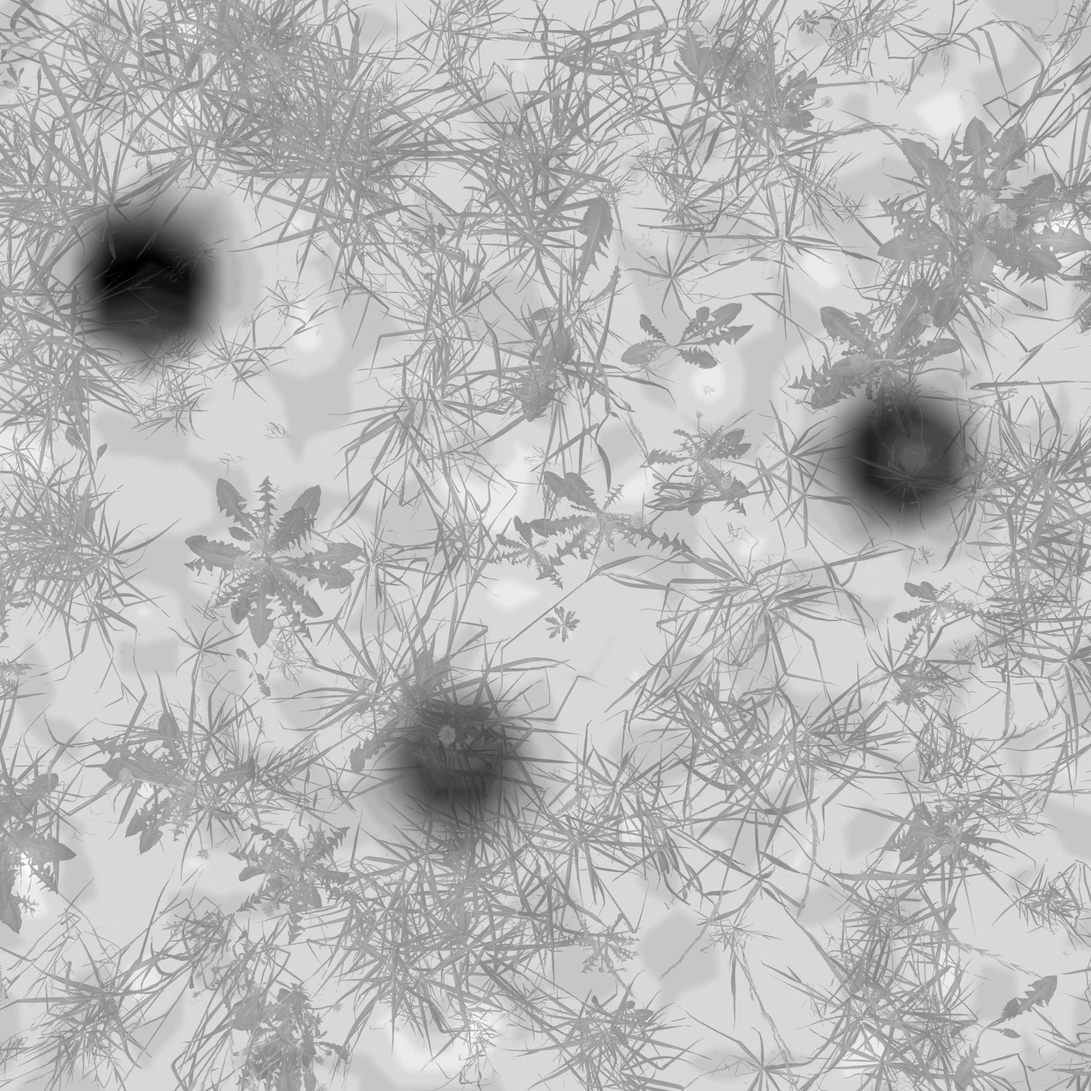landmine: (807, 373, 973, 548), (60, 206, 223, 362), (387, 699, 523, 831)
